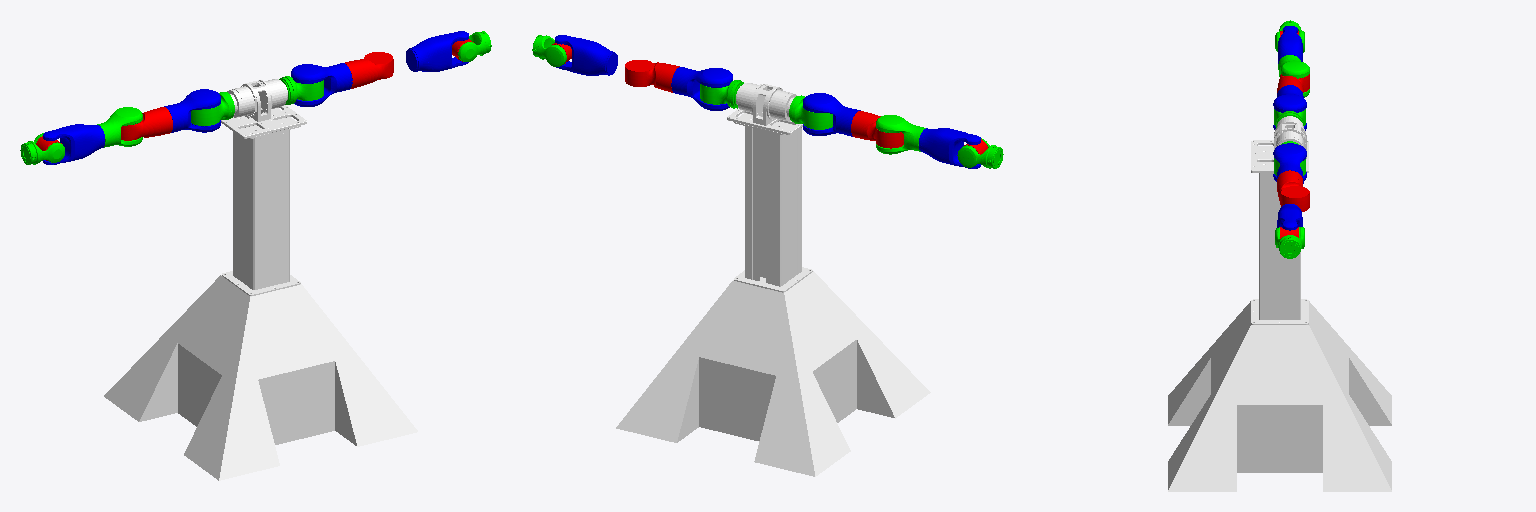
robot.urdf — DHLCE-S-IR-590:
<?xml version="1.0" encoding="utf-8"?>
<!-- This URDF was automatically created by SolidWorks to URDF Exporter! Originally created by [author] ([email redacted]) 
     Commit Version: 1.6.0-4-g7f85cfe  Build Version: 1.6.7995.38578
     For more information, please see http://wiki.ros.org/sw_urdf_exporter -->
<robot
  name="DHLCE-S-IR-590">
  <link
    name="base_link">
    <inertial>
      <origin
        xyz="2.7133337569818E-08 -4.00036734833501E-07 0.183564109526705"
        rpy="0 0 0" />
      <mass
        value="111.045668972357" />
      <inertia
        ixx="4.76843043215874"
        ixy="1.46637578929369E-08"
        ixz="1.88765183189621E-09"
        iyy="4.76843370063752"
        iyz="-1.91828628615668E-05"
        izz="6.03918875247374" />
    </inertial>
    <visual>
      <origin
        xyz="0 0 0"
        rpy="0 0 0" />
      <geometry>
        <mesh
          filename="package://tj_arm_description/meshes/base_link.STL" />
      </geometry>
      <material
        name="">
        <color
          rgba="1 1 1 1" />
      </material>
    </visual>
    <collision>
      <origin
        xyz="0 0 0"
        rpy="0 0 0" />
      <geometry>
        <mesh
          filename="package://tj_arm_description/meshes/base_link.STL" />
      </geometry>
    </collision>
  </link>
  <link
    name="shengjiangtai">
    <inertial>
      <origin
        xyz="6.23556986912091E-06 0.00668057951085972 0.525549966882468"
        rpy="0 0 0" />
      <mass
        value="2.07538746982367" />
      <inertia
        ixx="0.0198356608506798"
        ixy="2.29049235726413E-07"
        ixz="-8.28586390132867E-09"
        iyy="0.0208178998616574"
        iyz="-4.41649022069467E-07"
        izz="0.0126102874477035" />
    </inertial>
    <visual>
      <origin
        xyz="0 0 0"
        rpy="0 0 0" />
      <geometry>
        <mesh
          filename="package://tj_arm_description/meshes/shengjiangtai.STL" />
      </geometry>
      <material
        name="">
        <color
          rgba="1 1 1 1" />
      </material>
    </visual>
    <collision>
      <origin
        xyz="0 0 0"
        rpy="0 0 0" />
      <geometry>
        <mesh
          filename="package://tj_arm_description/meshes/shengjiangtai.STL" />
      </geometry>
    </collision>
  </link>
  <joint
    name="shengjiangtai"
    type="fixed">
    <origin
      xyz="0 0 0.5"
      rpy="0 0 0" />
    <parent
      link="base_link" />
    <child
      link="shengjiangtai" />
    <axis
      xyz="0 0 1" />
    <limit
      lower="0"
      upper="0"
      effort="0"
      velocity="0" />
  </joint>
  <link
    name="Base_R">
    <inertial>
      <origin
        xyz="0.0351765615357257 8.85723822482212E-05 0"
        rpy="0 0 0" />
      <mass
        value="0.602008901414649" />
      <inertia
        ixx="0.00067511009136396"
        ixy="1.71569810271787E-06"
        ixz="-8.46582249324563E-20"
        iyy="0.000694198784228436"
        iyz="-7.49777010610437E-20"
        izz="0.000691483010563879" />
    </inertial>
    <visual>
      <origin
        xyz="0 0 0"
        rpy="0 0 0" />
      <geometry>
        <mesh
          filename="package://tj_arm_description/meshes/Base_R.STL" />
      </geometry>
      <material
        name="">
        <color
          rgba="1 1 1 1" />
      </material>
    </visual>
    <collision>
      <origin
        xyz="0 0 0"
        rpy="0 0 0" />
      <geometry>
        <mesh
          filename="package://tj_arm_description/meshes/Base_R.STL" />
      </geometry>
    </collision>
  </link>
  <joint
    name="Base_R_link"
    type="fixed">
    <origin
      xyz="0.0262 0.035 0.66"
      rpy="0 0 0" />
    <parent
      link="shengjiangtai" />
    <child
      link="Base_R" />
    <axis
      xyz="0 0 0" />
  </joint>
  <link
    name="Base_L">
    <inertial>
      <origin
        xyz="-0.0351765615357258 8.85723822486306E-05 1.11022302462516E-16"
        rpy="0 0 0" />
      <mass
        value="0.602008901414648" />
      <inertia
        ixx="0.00067511009136396"
        ixy="-1.71569810271782E-06"
        ixz="1.12653311225637E-20"
        iyy="0.000694198784228436"
        iyz="1.48369918405467E-20"
        izz="0.000691483010563878" />
    </inertial>
    <visual>
      <origin
        xyz="0 0 0"
        rpy="0 0 0" />
      <geometry>
        <mesh
          filename="package://tj_arm_description/meshes/Base_L.STL" />
      </geometry>
      <material
        name="">
        <color
          rgba="1 1 1 1" />
      </material>
    </visual>
    <collision>
      <origin
        xyz="0 0 0"
        rpy="0 0 0" />
      <geometry>
        <mesh
          filename="package://tj_arm_description/meshes/Base_L.STL" />
      </geometry>
    </collision>
  </link>
  <joint
    name="Base_L_link"
    type="fixed">
    <origin
      xyz="-0.0262 0.035 0.66"
      rpy="0 0 0" />
    <parent
      link="shengjiangtai" />
    <child
      link="Base_L" />
    <axis
      xyz="0 0 0" />
  </joint>
  <link
    name="Link1_L">
    <inertial>
      <origin
        xyz="0.00002347 0.00557150 -0.03075998"
        rpy="0 0 0" />
      <mass
        value="1.9705" />
      <inertia
        ixx="0.00492293"
        ixy="0.00000550"
        ixz="0.00000193"
        iyy="0.00526513"
        iyz="0.00033232"
        izz="0.00188107" />
    </inertial>
    <visual>
      <origin
        xyz="0 0 0"
        rpy="0 0 0" />
      <geometry>
        <mesh
          filename="package://tj_arm_description/meshes/Link1_L.STL" />
      </geometry>
      <material
        name="">
        <color
          rgba="0 1 0 1" />
      </material>
    </visual>
    <collision>
      <origin
        xyz="0 0 0"
        rpy="0 0 0" />
      <geometry>
        <mesh
          filename="package://tj_arm_description/meshes/Link1_L.STL" />
      </geometry>
    </collision>
  </link>
  <joint
    name="Joint1_L"
    type="revolute">
    <origin
      xyz="-0.1745 0 0"
      rpy="-1.5708 0 1.57" />
    <parent
      link="Base_L" />
    <child
      link="Link1_L" />
    <axis
      xyz="0 0 1" />
    <limit
      lower="-3.1067"
      upper="3.1067"
      effort="108"
      velocity="3.1416" />
  </joint>
  <link
    name="Link2_L">
    <inertial>
      <origin
        xyz="0.00013483 0.06170460 0.00950639"
        rpy="0 0 0" />
      <mass
        value="2.24398" />
      <inertia
        ixx="0.01194933"
        ixy="0.00000336"
        ixz="0.00000091"
        iyy="0.00361581"
        iyz="-0.00132804"
        izz="0.01098356" />
    </inertial>
    <visual>
      <origin
        xyz="0 0 0"
        rpy="0 0 0" />
      <geometry>
        <mesh
          filename="package://tj_arm_description/meshes/Link2_L.STL" />
      </geometry>
      <material
        name="">
        <color
          rgba="0 0 1 1" />
      </material>
    </visual>
    <collision>
      <origin
        xyz="0 0 0"
        rpy="0 0 0" />
      <geometry>
        <mesh
          filename="package://tj_arm_description/meshes/Link2_L.STL" />
      </geometry>
    </collision>
  </link>
  <joint
    name="Joint2_L"
    type="revolute">
    <origin
      xyz="0 0 0"
      rpy="1.5708 0 0" />
    <parent
      link="Link1_L" />
    <child
      link="Link2_L" />
    <axis
      xyz="0 0 1" />
    <limit
      lower="-2.0944"
      upper="2.0944"
      effort="108"
      velocity="3.1416" />
  </joint>
  <link
    name="Link3_L">
    <inertial>
      <origin
        xyz="0.00968562 0.00246599 -0.04627302"
        rpy="0 0 0" />
      <mass
        value="1.9242" />
      <inertia
        ixx="0.00718224"
        ixy="0.00004413"
        ixz="0.00089552"
        iyy="0.00762563"
        iyz="0.00022096"
        izz="0.00178597" />
    </inertial>
    <visual>
      <origin
        xyz="0 0 0"
        rpy="0 0 0" />
      <geometry>
        <mesh
          filename="package://tj_arm_description/meshes/Link3_L.STL" />
      </geometry>
      <material
        name="">
        <color
          rgba="1 0 0 1" />
      </material>
    </visual>
    <collision>
      <origin
        xyz="0 0 0"
        rpy="0 0 0" />
      <geometry>
        <mesh
          filename="package://tj_arm_description/meshes/Link3_L.STL" />
      </geometry>
    </collision>
  </link>
  <joint
    name="Joint3_L"
    type="revolute">
    <origin
      xyz="0 0.287 0"
      rpy="-1.5708 0 0" />
    <parent
      link="Link2_L" />
    <child
      link="Link3_L" />
    <axis
      xyz="0 0 1" />
    <limit
      lower="-3.1067"
      upper="3.1067"
      effort="66"
      velocity="3.1416" />
  </joint>
  <link
    name="Link4_L">
    <inertial>
      <origin
        xyz="0.00850411 -0.04718223 0.00941509"
        rpy="0 0 0" />
      <mass
        value="1.6085" />
      <inertia
        ixx="0.00580480"
        ixy="-0.00066669"
        ixz="-0.00012722"
        iyy="0.00223807"
        iyz="0.00070523"
        izz="0.00533060" />
    </inertial>
    <visual>
      <origin
        xyz="0 0 0"
        rpy="0 0 0" />
      <geometry>
        <mesh
          filename="package://tj_arm_description/meshes/Link4_L.STL" />
      </geometry>
      <material
        name="">
        <color
          rgba="0 1 0 1" />
      </material>
    </visual>
    <collision>
      <origin
        xyz="0 0 0"
        rpy="0 0 0" />
      <geometry>
        <mesh
          filename="package://tj_arm_description/meshes/Link4_L.STL" />
      </geometry>
    </collision>
  </link>
  <joint
    name="Joint4_L"
    type="revolute">
    <origin
      xyz="0.018 0 0"
      rpy="-1.5708 0 3.1416" />
    <parent
      link="Link3_L" />
    <child
      link="Link4_L" />
    <axis
      xyz="0 0 1" />
    <limit
      lower="-2.5307"
      upper="1.0472"
      effort="66"
      velocity="3.1416" />
  </joint>
  <link
    name="Link5_L">
    <inertial>
      <origin
        xyz="0.00051127 0.00101064 -0.11271739"
        rpy="0 0 0" />
      <mass
        value="2.0883" />
      <inertia
        ixx="0.00626603"
        ixy="0.00004009"
        ixz="0.00005338"
        iyy="0.00564387"
        iyz="-0.00006193"
        izz="0.00243632" />
    </inertial>
    <visual>
      <origin
        xyz="0 0 0"
        rpy="0 0 0" />
      <geometry>
        <mesh
          filename="package://tj_arm_description/meshes/Link5_L.STL" />
      </geometry>
      <material
        name="">
        <color
          rgba="0 0 1 1" />
      </material>
    </visual>
    <collision>
      <origin
        xyz="0 0 0"
        rpy="0 0 0" />
      <geometry>
        <mesh
          filename="package://tj_arm_description/meshes/Link5_L.STL" />
      </geometry>
    </collision>
  </link>
  <joint
    name="Joint5_L"
    type="revolute">
    <origin
      xyz="0.018 -0.314 0"
      rpy="-1.5708 0 3.1416" />
    <parent
      link="Link4_L" />
    <child
      link="Link5_L" />
    <axis
      xyz="0 0 1" />
    <limit
      lower="-3.1067"
      upper="3.1067"
      effort="18"
      velocity="3.1416" />
  </joint>
  <link
    name="Link6_L">
    <inertial>
      <origin
        xyz="0.00032659 0.00531336 -0.00030182"
        rpy="0 0 0" />
      <mass
        value="0.72496" />
      <inertia
        ixx="0.00046040"
        ixy="0.00000189"
        ixz="0.00000083"
        iyy="0.00051716"
        iyz="-0.00000346"
        izz="0.00042521" />
    </inertial>
    <visual>
      <origin
        xyz="0 0 0"
        rpy="0 0 0" />
      <geometry>
        <mesh
          filename="package://tj_arm_description/meshes/Link6_L.STL" />
      </geometry>
      <material
        name="">
        <color
          rgba="1 0 0 1" />
      </material>
    </visual>
    <collision>
      <origin
        xyz="0 0 0"
        rpy="0 0 0" />
      <geometry>
        <mesh
          filename="package://tj_arm_description/meshes/Link6_L.STL" />
      </geometry>
    </collision>
  </link>
  <joint
    name="Joint6_L"
    type="revolute">
    <origin
      xyz="0 0 0"
      rpy="1.5708 -1.5708 0" />
    <parent
      link="Link5_L" />
    <child
      link="Link6_L" />
    <axis
      xyz="0 0 1" />
    <limit
      lower="-1.0472"
      upper="1.0472"
      effort="18"
      velocity="3.1416" />
  </joint>
  <link
    name="Link7_L">
    <inertial>
      <origin
        xyz="-0.00009108 -0.03153255 0.00889371"
        rpy="0 0 0" />
      <mass
        value="0.68606" />
      <inertia
        ixx="0.00173687"
        ixy="-0.00000345"
        ixz="-0.00000116"
        iyy="0.00089035"
        iyz="0.00030680"
        izz="0.00139406" />
    </inertial>
    <visual>
      <origin
        xyz="0 0 0"
        rpy="0 0 0" />
      <geometry>
        <mesh
          filename="package://tj_arm_description/meshes/Link7_L.STL" />
      </geometry>
      <material
        name="">
        <color
          rgba="0 1 0 1" />
      </material>
    </visual>
    <collision>
      <origin
        xyz="0 0 0"
        rpy="0 0 0" />
      <geometry>
        <mesh
          filename="package://tj_arm_description/meshes/Link7_L.STL" />
      </geometry>
    </collision>
  </link>
  <joint
    name="Joint7_L"
    type="revolute">
    <origin
      xyz="0 0 0"
      rpy="1.5708 -1.5708 0" />
    <parent
      link="Link6_L" />
    <child
      link="Link7_L" />
    <axis
      xyz="0 0 1" />
    <limit
      lower="-1.5708"
      upper="1.5708"
      effort="18"
      velocity="3.1416" />
  </joint>
  <link
    name="Link1_R">
    <inertial>
      <origin
        xyz="0.00002347 0.00557150 -0.03075998"
        rpy="0 0 0" />
      <mass
        value="1.9705" />
      <inertia
        ixx="0.00492293"
        ixy="0.00000550"
        ixz="0.00000193"
        iyy="0.00526513"
        iyz="0.00033232"
        izz="0.00188107" />
    </inertial>
    <visual>
      <origin
        xyz="0 0 0"
        rpy="0 0 0" />
      <geometry>
        <mesh
          filename="package://tj_arm_description/meshes/Link1_R.STL" />
      </geometry>
      <material
        name="">
        <color
          rgba="0 1 0 1" />
      </material>
    </visual>
    <collision>
      <origin
        xyz="0 0 0"
        rpy="0 0 0" />
      <geometry>
        <mesh
          filename="package://tj_arm_description/meshes/Link1_R.STL" />
      </geometry>
    </collision>
  </link>
  <joint
    name="Joint1_R"
    type="revolute">
    <origin
      xyz="0.1745 0 0"
      rpy="1.5708 0 1.5708" />
    <parent
      link="Base_R" />
    <child
      link="Link1_R" />
    <axis
      xyz="0 0 1" />
    <limit
      lower="-3.1067"
      upper="3.1067"
      effort="108"
      velocity="3.1416" />
  </joint>
  <link
    name="Link2_R">
    <inertial>
      <origin
        xyz="0.00013483 0.06170460 0.00950639"
        rpy="0 0 0" />
      <mass
        value="2.24398" />
      <inertia
        ixx="0.01194933"
        ixy="0.00000336"
        ixz="0.00000091"
        iyy="0.00361581"
        iyz="-0.00132804"
        izz="0.01098356" />
    </inertial>
    <visual>
      <origin
        xyz="0 0 0"
        rpy="0 0 0" />
      <geometry>
        <mesh
          filename="package://tj_arm_description/meshes/Link2_R.STL" />
      </geometry>
      <material
        name="">
        <color
          rgba="0 0 1 1" />
      </material>
    </visual>
    <collision>
      <origin
        xyz="0 0 0"
        rpy="0 0 0" />
      <geometry>
        <mesh
          filename="package://tj_arm_description/meshes/Link2_R.STL" />
      </geometry>
    </collision>
  </link>
  <joint
    name="Joint2_R"
    type="revolute">
    <origin
      xyz="0 0 0"
      rpy="1.5708 0 0" />
    <parent
      link="Link1_R" />
    <child
      link="Link2_R" />
    <axis
      xyz="0 0 1" />
    <limit
      lower="-2.0944"
      upper="2.0944"
      effort="108"
      velocity="3.1416" />
  </joint>
  <link
    name="Link3_R">
    <inertial>
      <origin
        xyz="0.00968562 0.00246599 -0.04627302"
        rpy="0 0 0" />
      <mass
        value="1.9242" />
      <inertia
        ixx="0.00718224"
        ixy="0.00004413"
        ixz="0.00089552"
        iyy="0.00762563"
        iyz="0.00022096"
        izz="0.00178597" />
    </inertial>
    <visual>
      <origin
        xyz="0 0 0"
        rpy="0 0 0" />
      <geometry>
        <mesh
          filename="package://tj_arm_description/meshes/Link3_R.STL" />
      </geometry>
      <material
        name="">
        <color
          rgba="1 0 0 1" />
      </material>
    </visual>
    <collision>
      <origin
        xyz="0 0 0"
        rpy="0 0 0" />
      <geometry>
        <mesh
          filename="package://tj_arm_description/meshes/Link3_R.STL" />
      </geometry>
    </collision>
  </link>
  <joint
    name="Joint3_R"
    type="revolute">
    <origin
      xyz="0 0.287 0"
      rpy="-1.5708 0 0" />
    <parent
      link="Link2_R" />
    <child
      link="Link3_R" />
    <axis
      xyz="0 0 1" />
    <limit
      lower="-3.1067"
      upper="3.1067"
      effort="66"
      velocity="3.1416" />
  </joint>
  <link
    name="Link4_R">
    <inertial>
      <origin
        xyz="0.00850411 -0.04718223 0.00941509"
        rpy="0 0 0" />
      <mass
        value="1.6085" />
      <inertia
        ixx="0.00580480"
        ixy="-0.00066669"
        ixz="-0.00012722"
        iyy="0.00223807"
        iyz="0.00070523"
        izz="0.00533060" />
    </inertial>
    <visual>
      <origin
        xyz="0 0 0"
        rpy="0 0 0" />
      <geometry>
        <mesh
          filename="package://tj_arm_description/meshes/Link4_R.STL" />
      </geometry>
      <material
        name="">
        <color
          rgba="0 1 0 1" />
      </material>
    </visual>
    <collision>
      <origin
        xyz="0 0 0"
        rpy="0 0 0" />
      <geometry>
        <mesh
          filename="package://tj_arm_description/meshes/Link4_R.STL" />
      </geometry>
    </collision>
  </link>
  <joint
    name="Joint4_R"
    type="revolute">
    <origin
      xyz="0.018 0 0"
      rpy="-1.5708 0 3.1416" />
    <parent
      link="Link3_R" />
    <child
      link="Link4_R" />
    <axis
      xyz="0 0 1" />
    <limit
      lower="-2.5307"
      upper="1.0472"
      effort="66"
      velocity="3.1416" />
  </joint>
  <link
    name="Link5_R">
    <inertial>
      <origin
        xyz="-0.00051127 -0.00101064 -0.11271739"
        rpy="0 0 0" />
      <mass
        value="2.0883" />
      <inertia
        ixx="0.00626603"
        ixy="0.00004009"
        ixz="-0.00005338"
        iyy="0.00564387"
        iyz="0.00006193"
        izz="0.00243632" />
    </inertial>
    <visual>
      <origin
        xyz="0 0 0"
        rpy="0 0 0" />
      <geometry>
        <mesh
          filename="package://tj_arm_description/meshes/Link5_R.STL" />
      </geometry>
      <material
        name="">
        <color
          rgba="0 0 1 1" />
      </material>
    </visual>
    <collision>
      <origin
        xyz="0 0 0"
        rpy="0 0 0" />
      <geometry>
        <mesh
          filename="package://tj_arm_description/meshes/Link5_R.STL" />
      </geometry>
    </collision>
  </link>
  <joint
    name="Joint5_R"
    type="revolute">
    <origin
      xyz="0.018 -0.314 0"
      rpy="-1.5708 0 3.1416" />
    <parent
      link="Link4_R" />
    <child
      link="Link5_R" />
    <axis
      xyz="0 0 1" />
    <limit
      lower="-3.1067"
      upper="3.1067"
      effort="18"
      velocity="3.1416" />
  </joint>
  <link
    name="Link6_R">
    <inertial>
      <origin
        xyz="0.00032659 -0.00531336 0.00030182"
        rpy="0 0 0" />
      <mass
        value="0.72496" />
      <inertia
        ixx="0.00046040"
        ixy="-0.00000189"
        ixz="-0.00000083"
        iyy="0.00051716"
        iyz="-0.00000346"
        izz="0.00042521" />
    </inertial>
    <visual>
      <origin
        xyz="0 0 0"
        rpy="0 0 0" />
      <geometry>
        <mesh
          filename="package://tj_arm_description/meshes/Link6_R.STL" />
      </geometry>
      <material
        name="">
        <color
          rgba="1 0 0 1" />
      </material>
    </visual>
    <collision>
      <origin
        xyz="0 0 0"
        rpy="0 0 0" />
      <geometry>
        <mesh
          filename="package://tj_arm_description/meshes/Link6_R.STL" />
      </geometry>
    </collision>
  </link>
  <joint
    name="Joint6_R"
    type="revolute">
    <origin
      xyz="0 0 0"
      rpy="1.5708 -1.5708 0" />
    <parent
      link="Link5_R" />
    <child
      link="Link6_R" />
    <axis
      xyz="0 0 1" />
    <limit
      lower="-1.0472"
      upper="1.0472"
      effort="18"
      velocity="3.1416" />
  </joint>
  <link
    name="Link7_R">
    <inertial>
      <origin
        xyz="-0.00009108 -0.03153255 0.00889371"
        rpy="0 0 0" />
      <mass
        value="0.68606" />
      <inertia
        ixx="0.00173687"
        ixy="-0.00000345"
        ixz="-0.00000116"
        iyy="0.00089035"
        iyz="0.00030680"
        izz="0.00139406" />
    </inertial>
    <visual>
      <origin
        xyz="0 0 0"
        rpy="0 0 0" />
      <geometry>
        <mesh
          filename="package://tj_arm_description/meshes/Link7_R.STL" />
      </geometry>
      <material
        name="">
        <color
          rgba="0 1 0 1" />
      </material>
    </visual>
    <collision>
      <origin
        xyz="0 0 0"
        rpy="0 0 0" />
      <geometry>
        <mesh
          filename="package://tj_arm_description/meshes/Link7_R.STL" />
      </geometry>
    </collision>
  </link>
  <joint
    name="Joint7_R"
    type="revolute">
    <origin
      xyz="0 0 0"
      rpy="1.5708 -1.5708 0" />
    <parent
      link="Link6_R" />
    <child
      link="Link7_R" />
    <axis
      xyz="0 0 1" />
    <limit
      lower="-1.5708"
      upper="1.5708"
      effort="18"
      velocity="3.1416" />
  </joint>
</robot>

--- Facts derived from the render (not from the file) ---
Views: 3 orthographic renders of the robot side by side, from view 1: azimuth 30°, elevation 25°; view 2: azimuth 150°, elevation 25°; view 3: azimuth 270°, elevation 25°.
Model DHLCE-S-IR-590 with 18 links and 17 joints (14 revolute, 3 fixed), rooted at base_link, posed all joints at 0.
Visible links, largest first — view 1: base_link, shengjiangtai, Link5_R, Link5_L, Link2_R, Link2_L, Link3_R, Link3_L, Link4_L, Link1_L, Link7_L, Link1_R (+3 smaller); view 2: base_link, Link5_R, Link5_L, Link2_R, Link2_L, shengjiangtai, Link3_R, Link3_L, Link4_L, Link1_L, Link7_L, Link1_R (+3 smaller); view 3: base_link, shengjiangtai, Link3_R, Link2_R, Link2_L, Link5_L, Link7_R, Link4_L, Link5_R.
Link boxes in pixels (left/top/right/bottom): base_link: left=104, top=130, right=417, bottom=480; shengjiangtai: left=221, top=80, right=306, bottom=138; Link5_R: left=406, top=31, right=468, bottom=71; Link5_L: left=43, top=124, right=104, bottom=164; Link2_R: left=291, top=63, right=352, bottom=106; Link2_L: left=164, top=89, right=220, bottom=132; Link3_R: left=345, top=52, right=393, bottom=88; Link3_L: left=121, top=107, right=172, bottom=140; Link4_L: left=97, top=107, right=142, bottom=147; Link1_L: left=191, top=92, right=234, bottom=125; Link7_L: left=20, top=133, right=64, bottom=164; Link1_R: left=279, top=76, right=323, bottom=104; base_link: left=616, top=126, right=930, bottom=476; Link5_R: left=555, top=35, right=617, bottom=75; Link5_L: left=919, top=128, right=980, bottom=168; Link2_R: left=671, top=67, right=732, bottom=110; Link2_L: left=803, top=93, right=860, bottom=136; shengjiangtai: left=727, top=84, right=802, bottom=134; Link3_R: left=625, top=60, right=679, bottom=92; Link3_L: left=851, top=111, right=903, bottom=148; Link4_L: left=876, top=115, right=925, bottom=154; Link1_L: left=789, top=95, right=832, bottom=129; Link7_L: left=957, top=138, right=1003, bottom=168; Link1_R: left=700, top=80, right=743, bottom=108; base_link: left=1168, top=173, right=1391, bottom=491; shengjiangtai: left=1251, top=124, right=1308, bottom=172; Link3_R: left=1277, top=170, right=1309, bottom=211; Link2_R: left=1273, top=143, right=1306, bottom=183; Link2_L: left=1273, top=85, right=1306, bottom=130; Link5_L: left=1278, top=26, right=1302, bottom=63; Link7_R: left=1275, top=227, right=1304, bottom=258; Link4_L: left=1278, top=55, right=1309, bottom=97; Link5_R: left=1277, top=204, right=1302, bottom=230.
Bounding box of the posed robot: 1.79 × 0.7774 × 1.22 m (x, y, z).
17 mesh visuals loaded from 18 distinct referenced files (17 binary STL); not drawn: 1 (reference not matched to a file when rendering).
